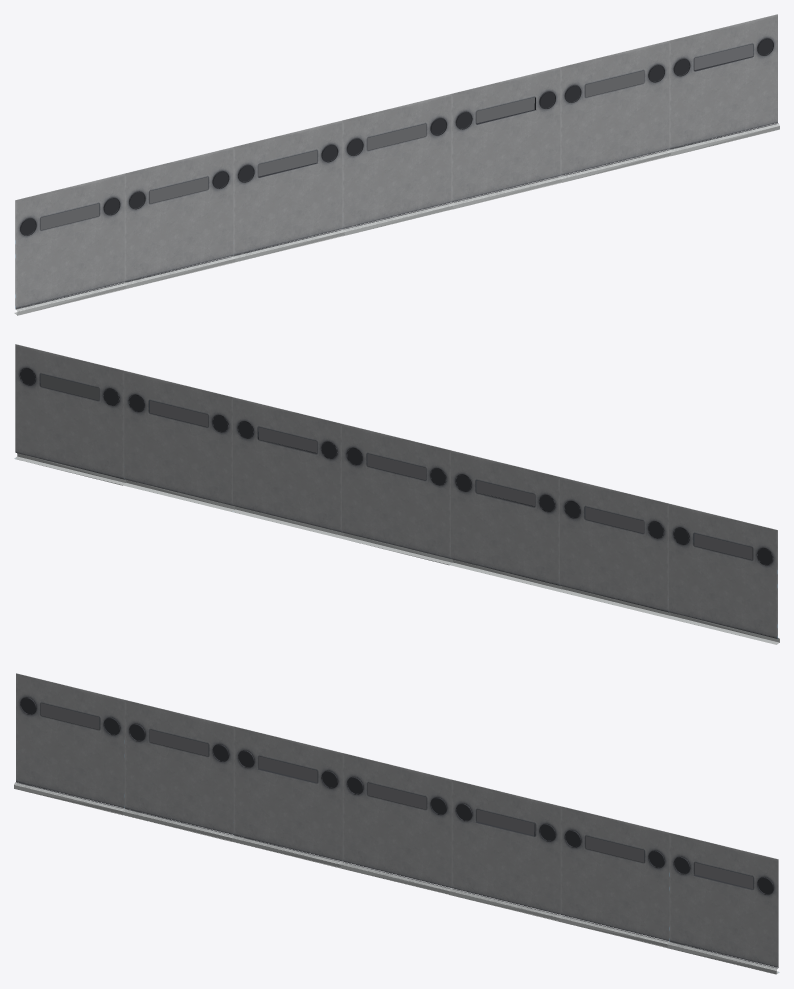
Rendered from WALLNEW.fbx.
3 renders of one model, top to bottom at view 1: azimuth 30°, elevation 25°; view 2: azimuth 150°, elevation 25°; view 3: azimuth 330°, elevation 25°, orthographic.
Visible parts, largest first — view 1: Object_27; view 2: Object_27; view 3: Object_27.
Part boxes in pixels (x1,y1,x2,y2): Object_27: [14, 14, 779, 315]; Object_27: [14, 344, 779, 644]; Object_27: [14, 673, 779, 974].
Bounding box in the file's own units: 1400 × 200 × 10.97.
